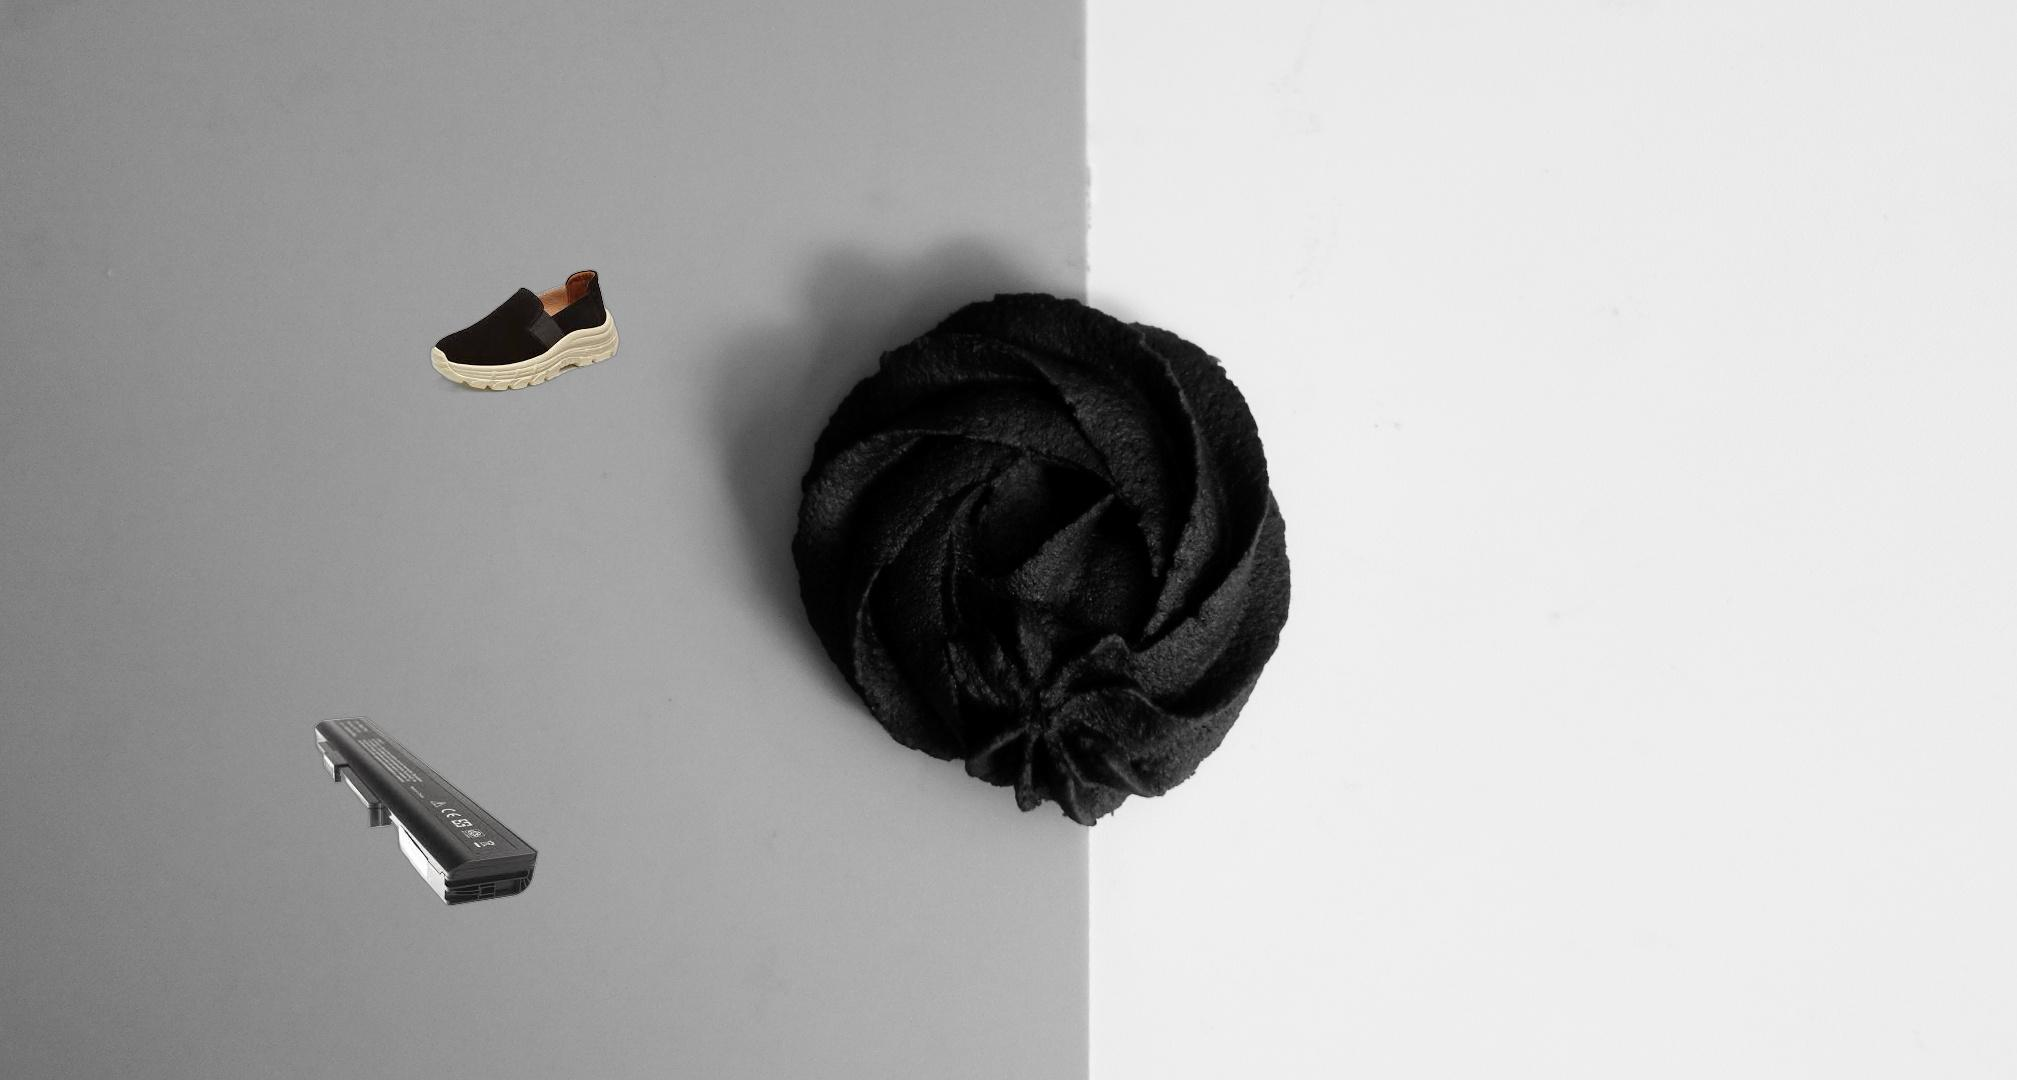battery: (312, 715, 540, 909)
shoes: (426, 267, 622, 395)
